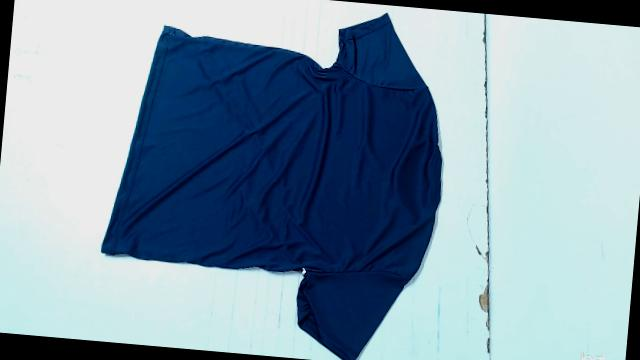new-garment: (102, 14, 441, 360)
